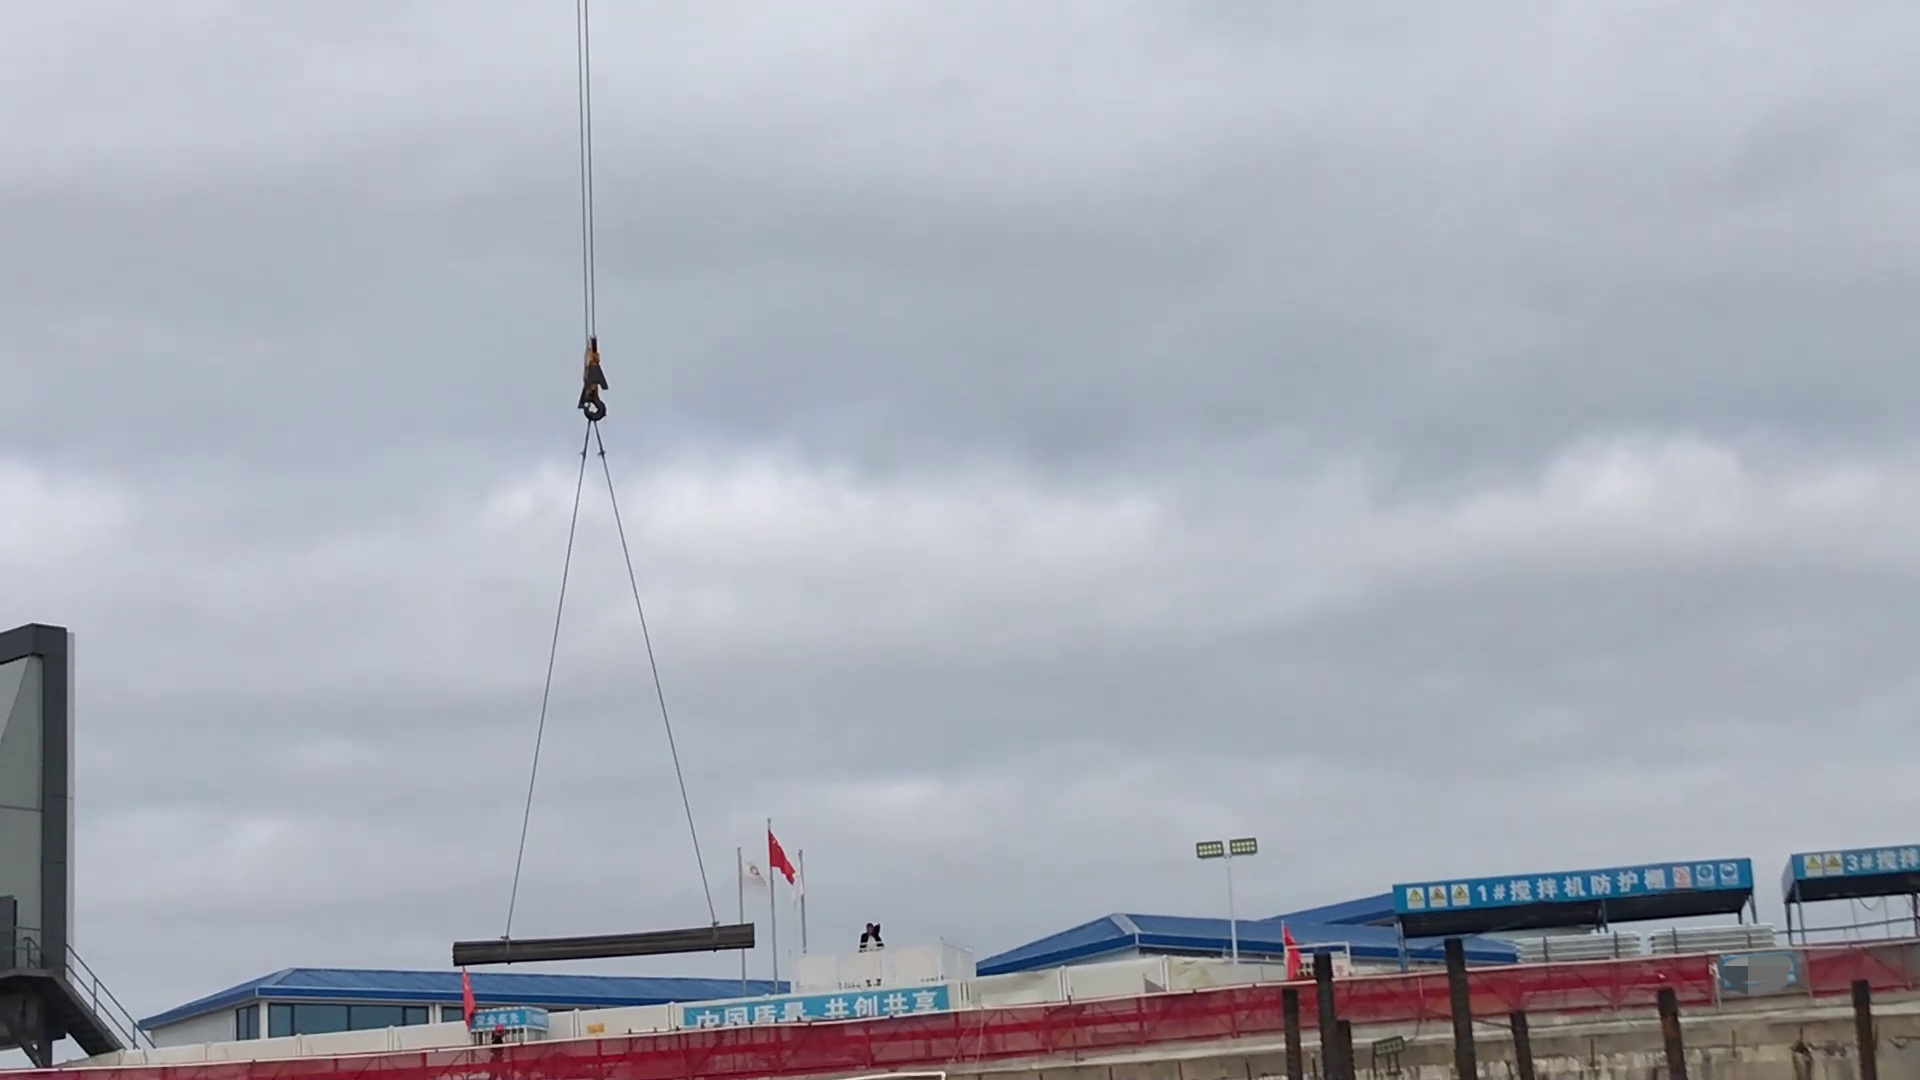fence: (345, 949, 1720, 1080)
hook: (568, 336, 612, 433)
rebar: (440, 909, 762, 982)
slogan: (676, 978, 949, 1036)
